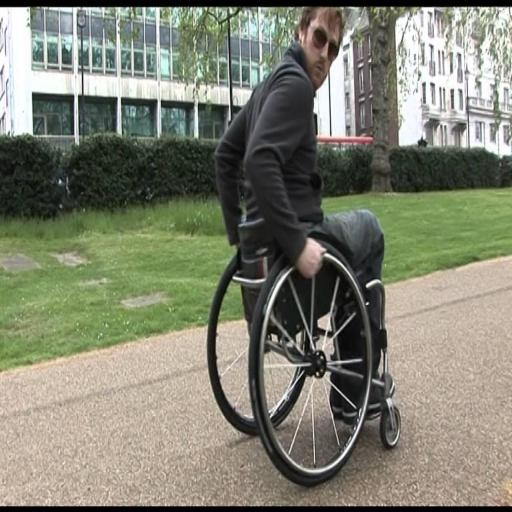cadeira_de_rodas: (193, 67, 433, 500)
